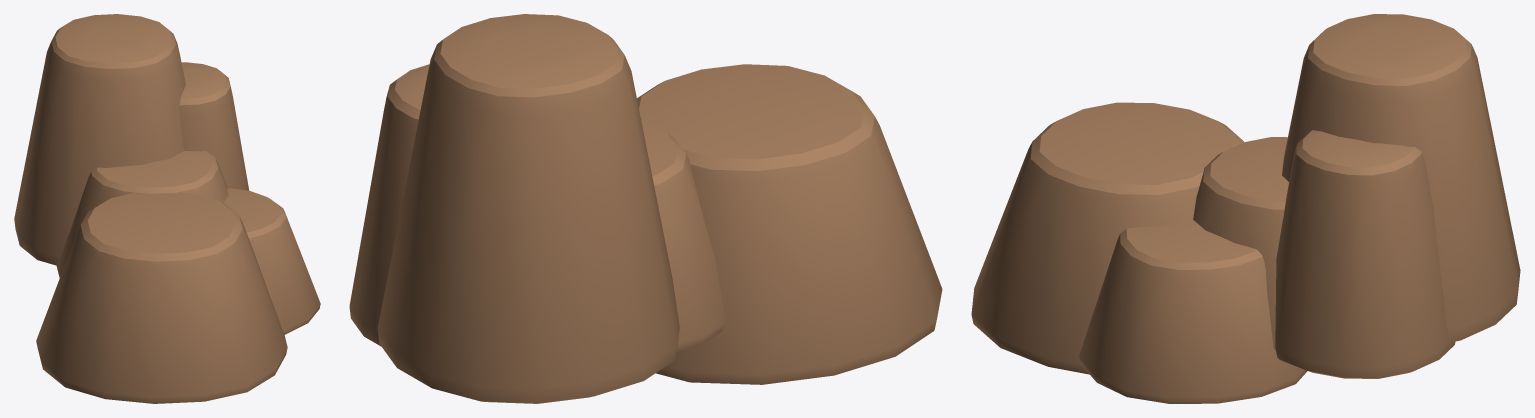
The model's file is RockPlatforms_1.003.fbx.
The picture shows the model from 3 angles, left to right: view 1: azimuth 30°, elevation 25°; view 2: azimuth 150°, elevation 25°; view 3: azimuth 270°, elevation 25°; orthographic projection. The views are drawn at different scales.
Parts seen in each view (by area): view 1: RockPlatforms_1.003; view 2: RockPlatforms_1.003; view 3: RockPlatforms_1.003.
Part boxes in pixels (x1,y1,x2,y2): RockPlatforms_1.003: (14, 14, 320, 403); RockPlatforms_1.003: (349, 14, 942, 403); RockPlatforms_1.003: (971, 14, 1520, 403).
Bounding box in the file's own units: 559 × 453 × 730.
